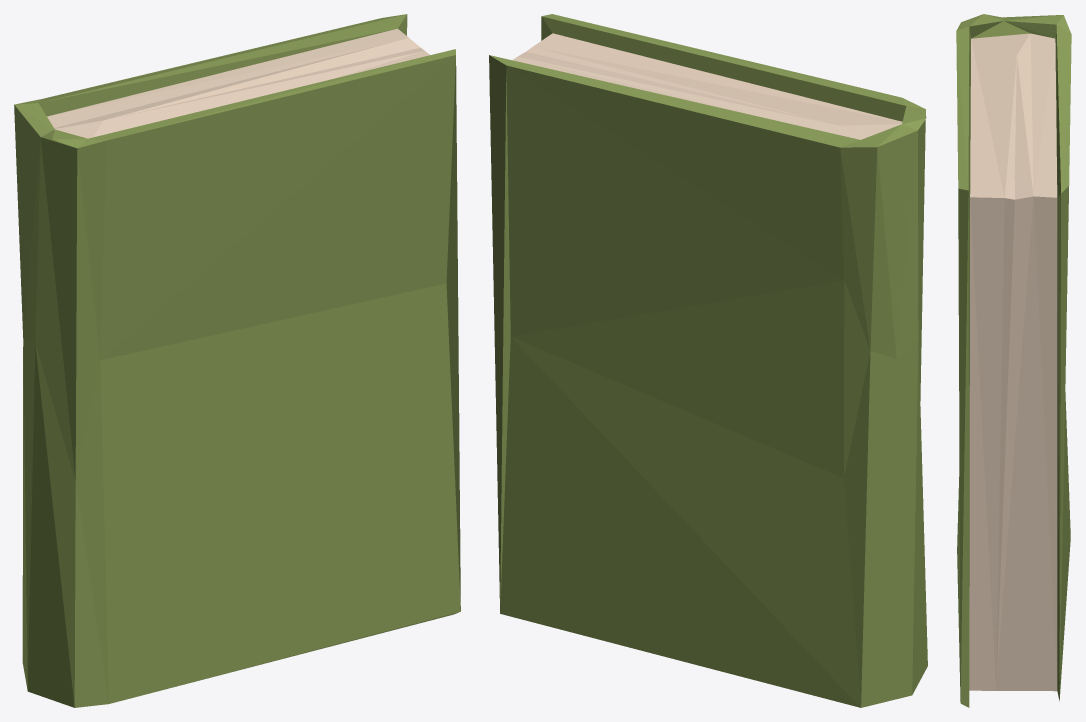
File: SFFA_Book_005.fbx
3 views of the same model, side by side, from view 1: azimuth 30°, elevation 25°; view 2: azimuth 150°, elevation 25°; view 3: azimuth 270°, elevation 25° (orthographic). The views are drawn at different scales.
Parts seen in each view (by area): view 1: SFFA_Book_005; view 2: SFFA_Book_005; view 3: SFFA_Book_005.
Boxes of the visible parts, x1,y1,x2,y2 form: SFFA_Book_005: (14, 14, 460, 707); SFFA_Book_005: (489, 14, 927, 707); SFFA_Book_005: (956, 14, 1071, 707).
Bounding box in the file's own units: 18.29 × 24.61 × 4.95.
